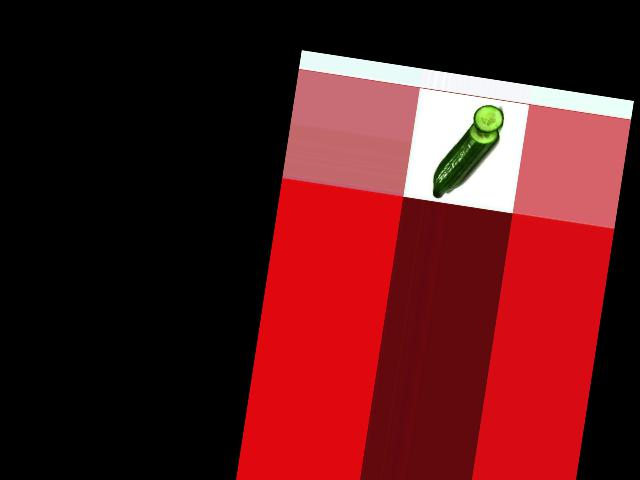cucumber: (431, 117, 500, 205)
